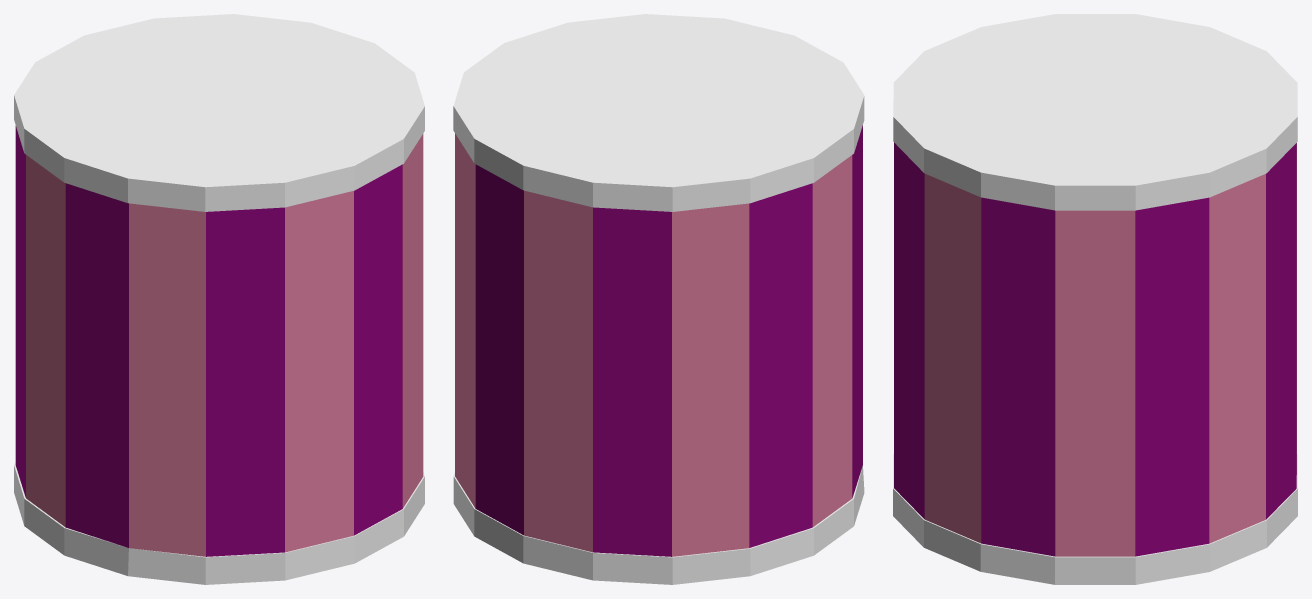
Rendered from Tabung.fbx.
The picture shows the model from 3 angles, left to right: view 1: azimuth 30°, elevation 25°; view 2: azimuth 150°, elevation 25°; view 3: azimuth 270°, elevation 25°; orthographic projection.
Parts seen in each view (by area): view 1: Cylinder, Cylinder.010, Cylinder.009, Cylinder.011, Cylinder.008, Cylinder.012, Cylinder.007, Cylinder.017, Cylinder.013, Cylinder.006; view 2: Cylinder, Cylinder.004, Cylinder.005, Cylinder.003, Cylinder.006, Cylinder.002, Cylinder.007, Cylinder.017, Cylinder.001, Cylinder.008; view 3: Cylinder, Cylinder.015, Cylinder.014, Cylinder.016, Cylinder.013, Cylinder.001, Cylinder.017, Cylinder.012, Cylinder.002.
Boxes of the visible parts, x1,y1,x2,y2 form: Cylinder: (14,14,424,211); Cylinder.010: (206,207,284,556); Cylinder.009: (129,203,205,556); Cylinder.011: (285,191,353,552); Cylinder.008: (65,183,128,547); Cylinder.012: (354,164,402,535); Cylinder.007: (26,155,65,527); Cylinder.017: (14,463,424,584); Cylinder.013: (402,134,423,508); Cylinder.006: (15,126,25,497); Cylinder: (453,14,864,211); Cylinder.004: (593,207,671,556); Cylinder.005: (672,203,749,556); Cylinder.003: (524,190,592,552); Cylinder.006: (749,183,812,547); Cylinder.002: (475,164,523,535); Cylinder.007: (812,155,852,526); Cylinder.017: (453,465,864,584); Cylinder.001: (455,133,475,508); Cylinder.008: (852,125,862,497); Cylinder: (893,14,1297,210); Cylinder.015: (1055,210,1135,556); Cylinder.014: (981,197,1055,556); Cylinder.016: (1135,197,1209,556); Cylinder.013: (924,174,981,543); Cylinder.001: (1209,174,1265,543); Cylinder.017: (893,454,1297,584); Cylinder.012: (894,142,924,518); Cylinder.002: (1266,143,1296,519).
Size of the model in its own units: 198 by 215 by 197.
